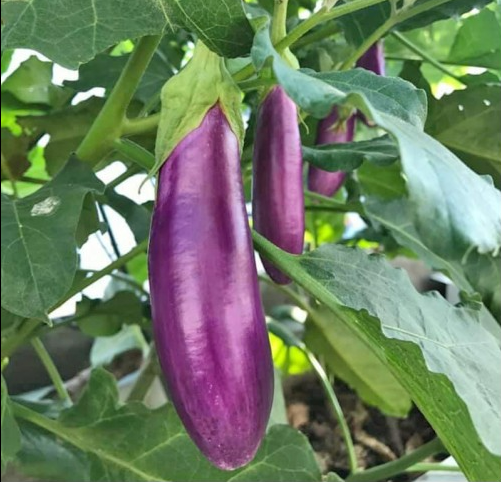catim: (124, 47, 277, 480), (252, 67, 311, 271), (313, 18, 358, 208), (348, 29, 408, 94)
